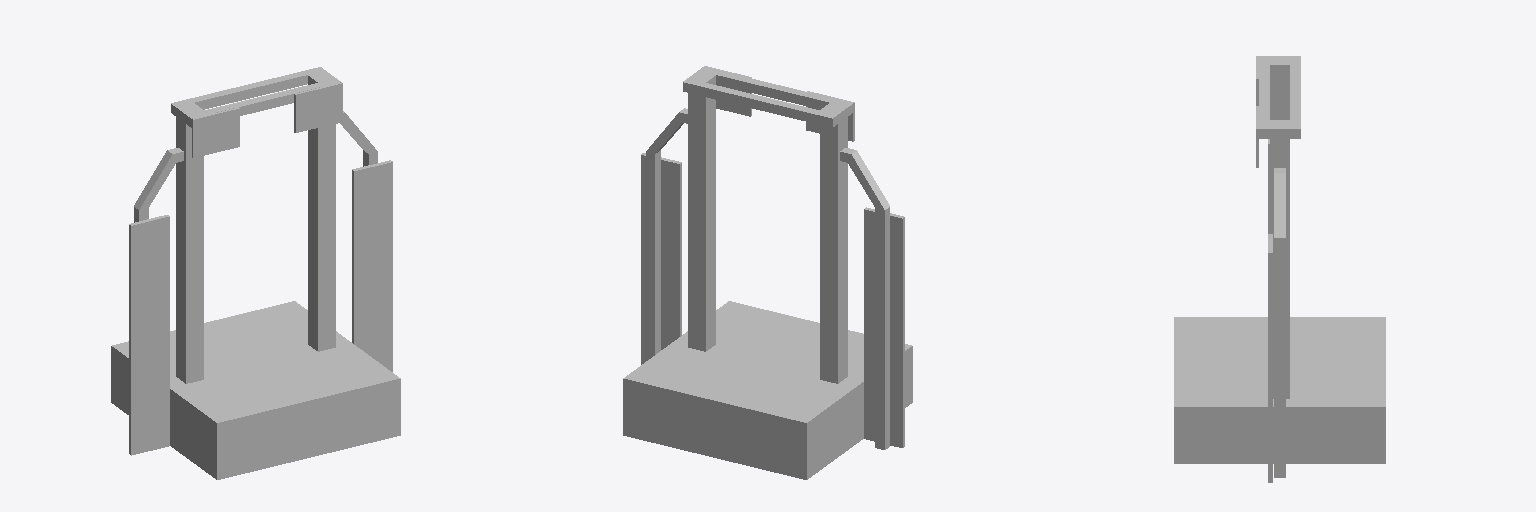
The model's file is door_structure.obj.
3 views of the same model, side by side, from view 1: azimuth 30°, elevation 25°; view 2: azimuth 150°, elevation 25°; view 3: azimuth 270°, elevation 25° (orthographic).
Parts seen in each view (by area): view 1: Cube.001; view 2: Cube.001; view 3: Cube.001.
Part boxes in pixels (left/top/right/bottom): Cube.001: left=111, top=67, right=400, bottom=479; Cube.001: left=623, top=66, right=912, bottom=479; Cube.001: left=1174, top=56, right=1385, bottom=482.
Bounding box in the file's own units: 3.73 × 4.45 × 2.62.